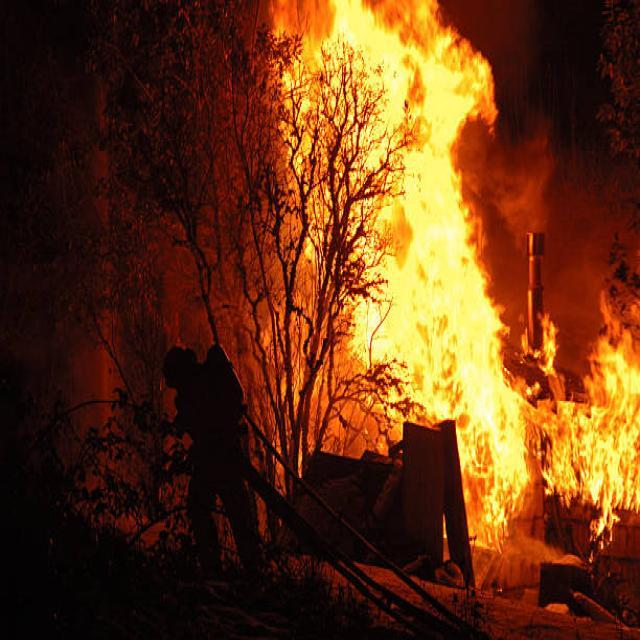Fire: (275, 0, 640, 538)
